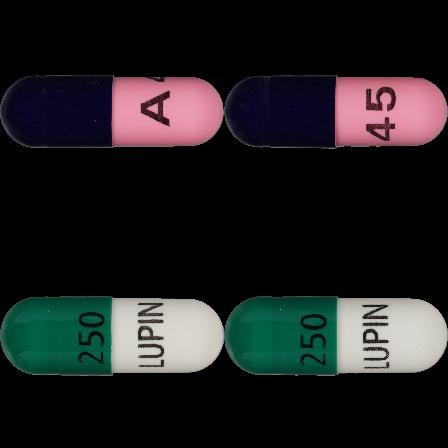52959-020: (0, 0, 224, 224)
